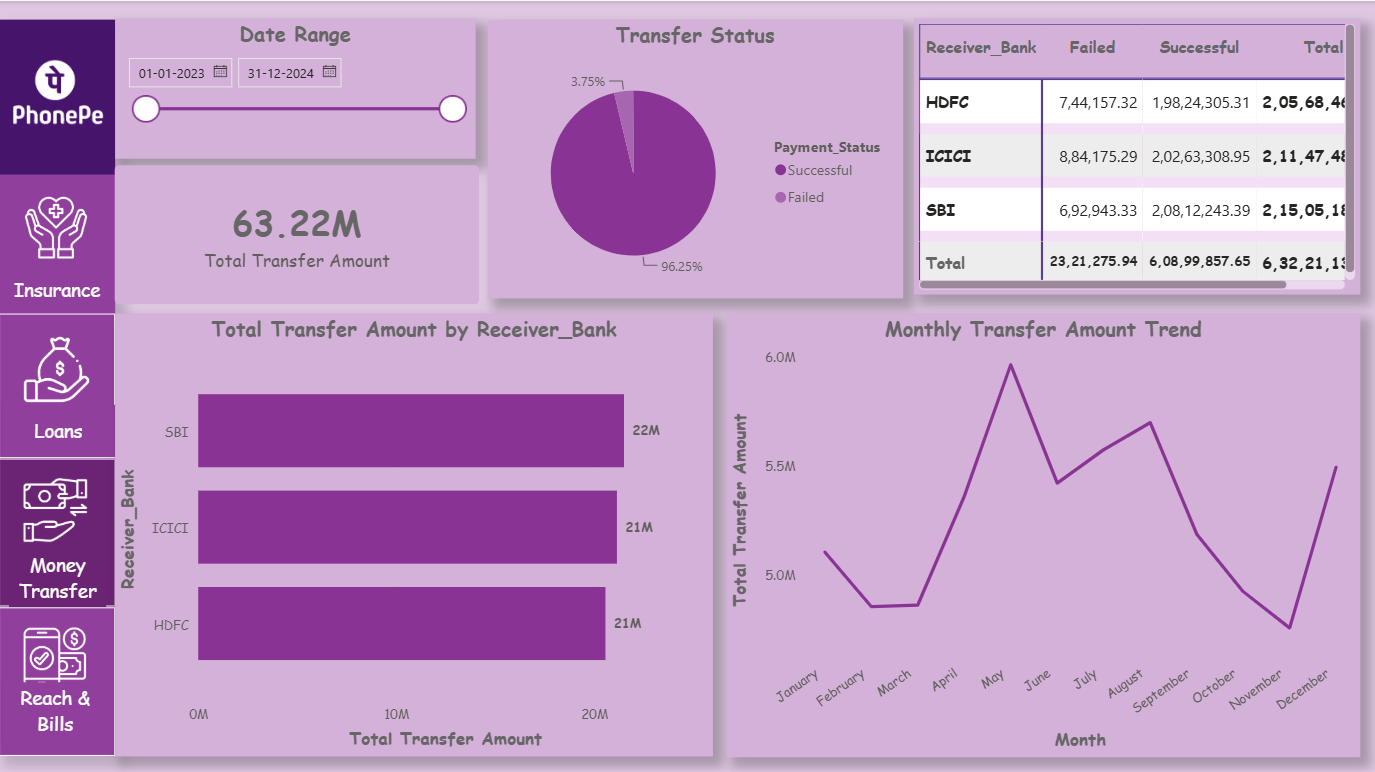

This screenshot's page, from the dashboard's own definition file:
{"tool":"powerbi","page":{"name":"Money Transfer","canvas":[1280,720],"ordinal":3},"visuals":[{"type":"shape","box":[0,17.4,108.1,684.9],"z":0},{"type":"shape","box":[0,17.4,108.1,144.2],"z":1000},{"type":"image","box":[9.3,29.1,90.7,116.3],"z":2000},{"type":"shape","box":[0,245.3,108.1,45.3],"z":3000},{"type":"image","box":[16.7,176.7,73.7,68.2],"z":4000},{"type":"shape","box":[0,290.6,108.1,134.5],"z":5000},{"type":"image","box":[14.4,308.6,81.7,67.2],"z":6000},{"type":"shape","box":[0,564,108.1,138.4],"z":7000},{"type":"image","box":[16.7,577.4,71,66.8],"z":8000},{"type":"shape","box":[0,425.7,108.5,137.7],"z":9000},{"type":"shape","box":[2.3,633.7,100,53.5],"z":10000},{"type":"image","box":[16.7,441,72.3,65.4],"z":11000},{"type":"shape","box":[2.8,375.7,105.7,48.7],"z":12000},{"type":"shape","box":[9.7,506.4,90.4,57],"z":13000},{"type":"slicer","title":"Date Range","fields":{"Values":["Loans.Date"]},"box":[108.1,16.3,334.9,130.2],"z":14000},{"type":"cardVisual","fields":{"Data":["Measures (2).Total Transfer Amount"]},"box":[90.7,136,373.3,164],"z":15000},{"type":"pieChart","title":"Transfer Status","fields":{"Category":["Money_Transfer.Payment_Status"],"Y":["Calendar.Total Transfers"]},"box":[454.7,17.4,386,259.3],"z":16000},{"type":"pivotTable","fields":{"Rows":["Money_Transfer.Receiver_Bank"],"Columns":["Money_Transfer.Payment_Status"],"Values":["Measures (2).Total Transfer Amount"]},"box":[851.2,16.3,415.1,257],"z":17000},{"type":"clusteredBarChart","fields":{"Category":["Money_Transfer.Receiver_Bank"],"Y":["Measures (2).Total Transfer Amount"]},"box":[108.1,290.7,555.8,411.6],"z":18000},{"type":"lineChart","title":"Monthly Transfer Amount Trend","fields":{"Y":["Measures (2).Total Transfer Amount"],"Category":["Calendar.Month"]},"box":[676.7,290.7,589.5,412.8],"z":19000}]}

Visuals, with their boxes in screenshot pixels (x1, y1, x2, y2), scaled from the page's 1280x720 canvas onto the 1375x772 screenshot:
shape: (left=0, top=19, right=116, bottom=753)
shape: (left=0, top=19, right=116, bottom=173)
image: (left=10, top=31, right=107, bottom=156)
shape: (left=0, top=263, right=116, bottom=312)
image: (left=18, top=189, right=97, bottom=263)
shape: (left=0, top=312, right=116, bottom=456)
image: (left=15, top=331, right=103, bottom=403)
shape: (left=0, top=605, right=116, bottom=753)
image: (left=18, top=619, right=94, bottom=691)
shape: (left=0, top=456, right=117, bottom=604)
shape: (left=2, top=679, right=110, bottom=737)
image: (left=18, top=473, right=96, bottom=543)
shape: (left=3, top=403, right=117, bottom=455)
shape: (left=10, top=543, right=108, bottom=604)
"Date Range" slicer: (left=116, top=17, right=476, bottom=157)
cardVisual - Measures (2).Total Transfer Amount: (left=97, top=146, right=498, bottom=322)
"Transfer Status" pieChart: (left=488, top=19, right=903, bottom=297)
pivotTable - Money_Transfer.Receiver_Bank x Money_Transfer.Payment_Status: (left=914, top=17, right=1360, bottom=293)
clusteredBarChart - Money_Transfer.Receiver_Bank x Measures (2).Total Transfer Amount: (left=116, top=312, right=713, bottom=753)
"Monthly Transfer Amount Trend" lineChart: (left=727, top=312, right=1360, bottom=754)
